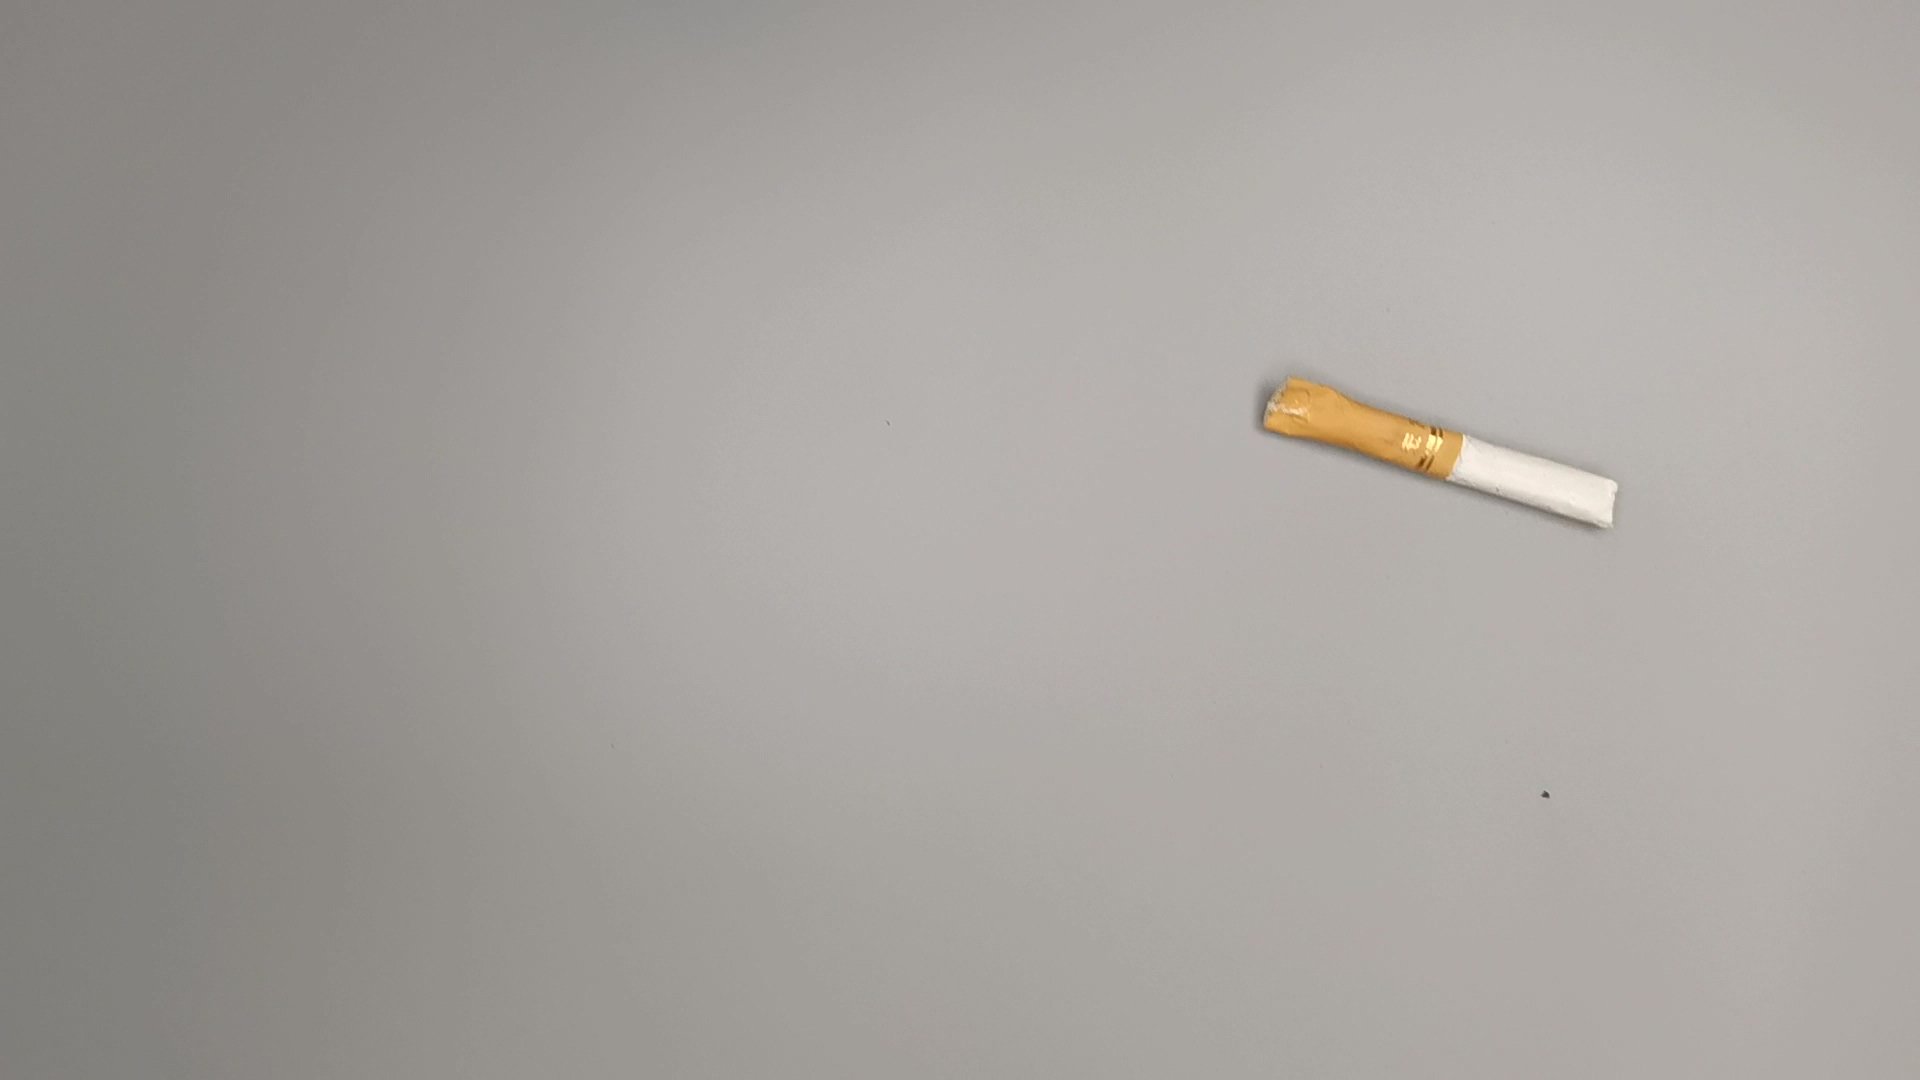cigarette: (1247, 372, 1630, 545)
